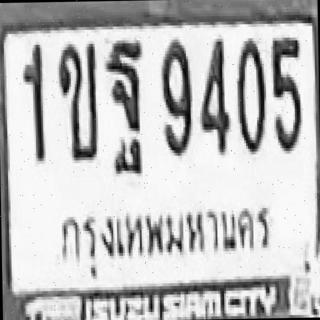A02: (57, 41, 97, 158)
A16: (104, 38, 151, 184)
N00: (235, 38, 265, 152)
N01: (21, 42, 44, 161)
N04: (198, 36, 229, 152)
N05: (270, 34, 301, 151)
N09: (159, 38, 191, 154)
P04: (51, 200, 279, 278)
